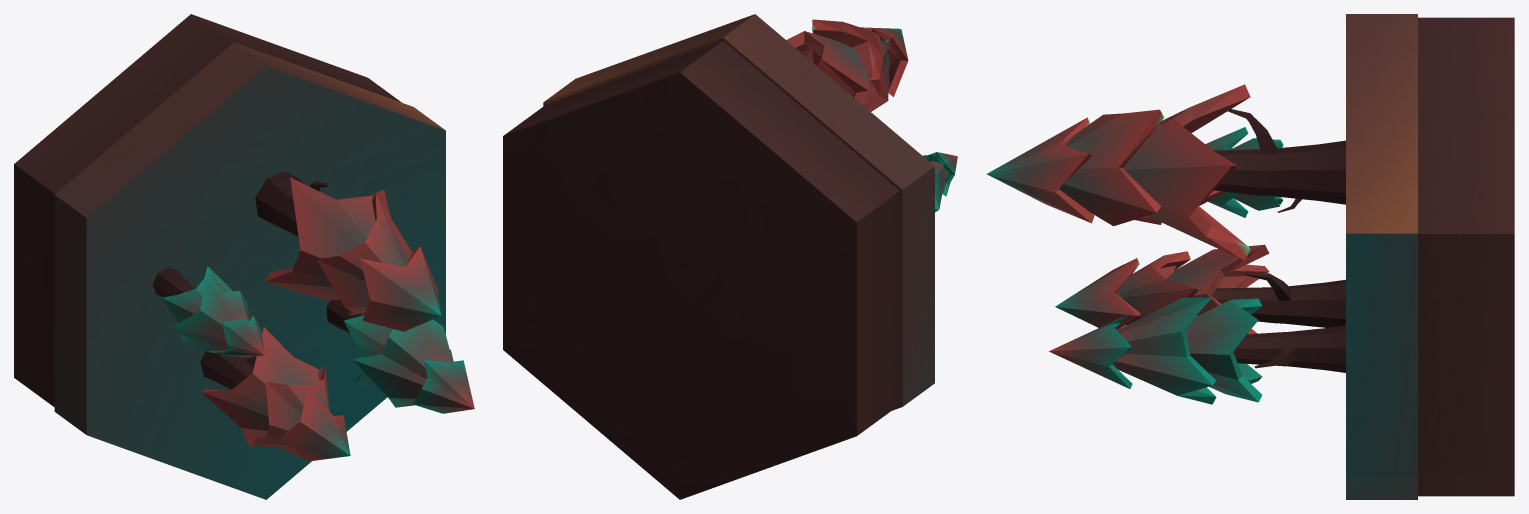
Rendered from NADELWALD_S_EX.fbx.
The picture shows the model from 3 angles, left to right: view 1: azimuth 30°, elevation 25°; view 2: azimuth 150°, elevation 25°; view 3: azimuth 270°, elevation 25°; orthographic projection. The views are drawn at different scales.
Visible parts, largest first — view 1: NADELWALD_S_EX; view 2: NADELWALD_S_EX; view 3: NADELWALD_S_EX.
Boxes of the visible parts, x1=… form: NADELWALD_S_EX: x1=14, y1=14, x2=474, y2=499; NADELWALD_S_EX: x1=503, y1=14, x2=957, y2=499; NADELWALD_S_EX: x1=986, y1=14, x2=1514, y2=499.
Size of the model in its own units: 172 by 199 by 196.
